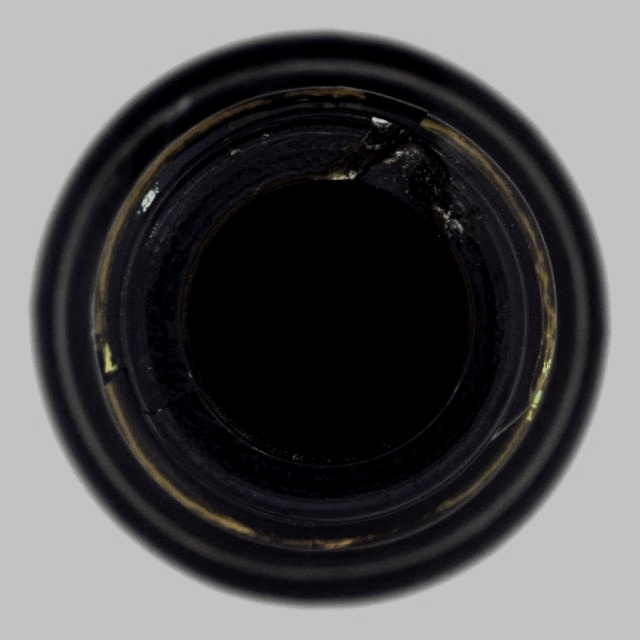bad-broken_small: (29, 28, 611, 610)
